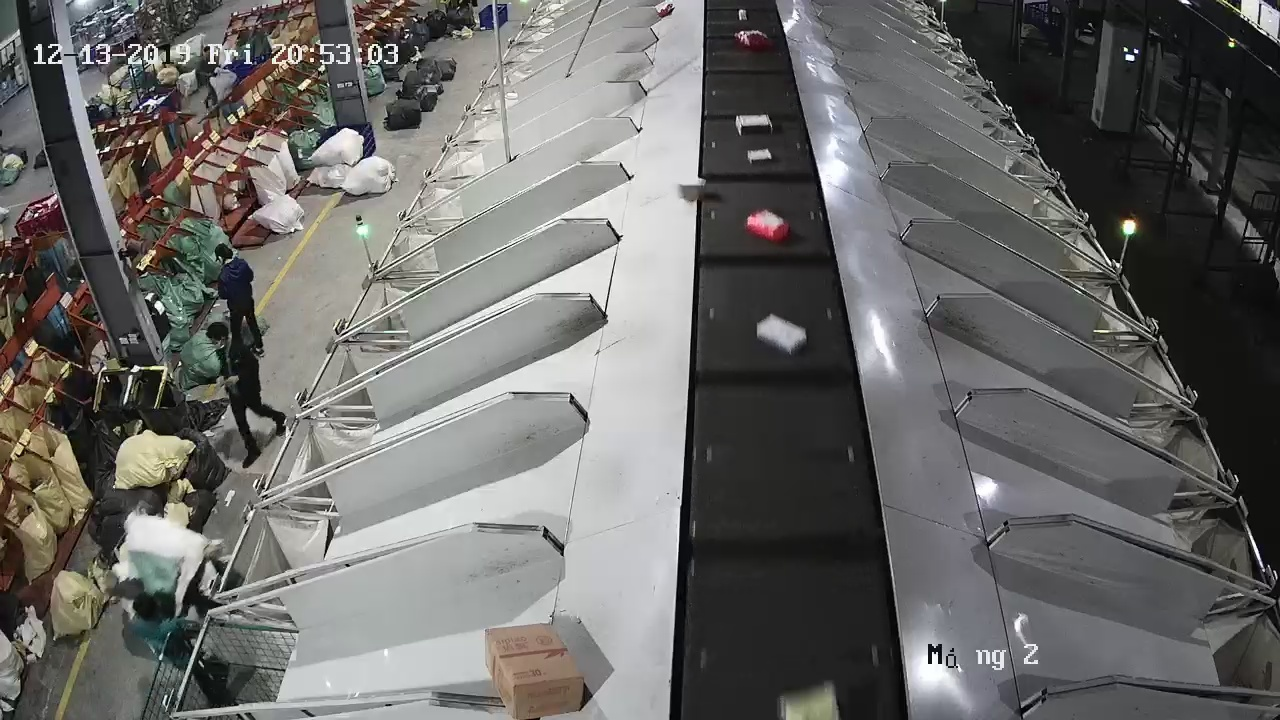parcel: (676, 176, 706, 203)
